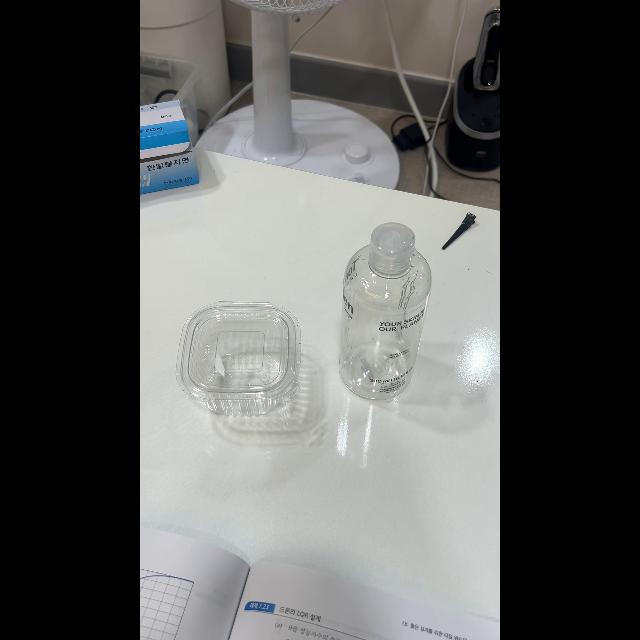clean: (338, 227, 432, 397), (178, 305, 300, 415)
